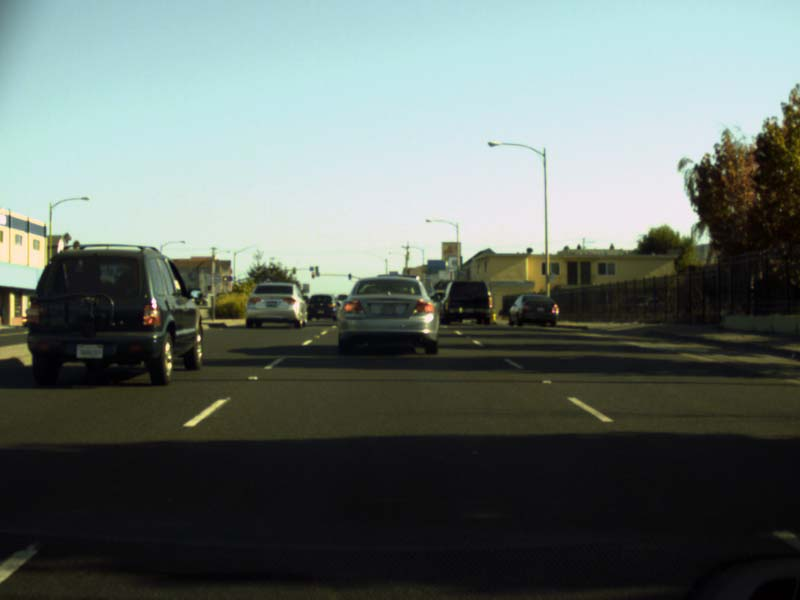Red: (311, 272, 313, 278)
